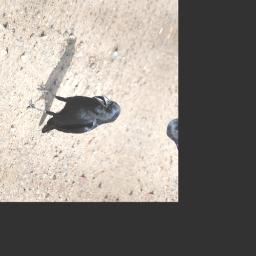Crow: (18, 79, 126, 149)
